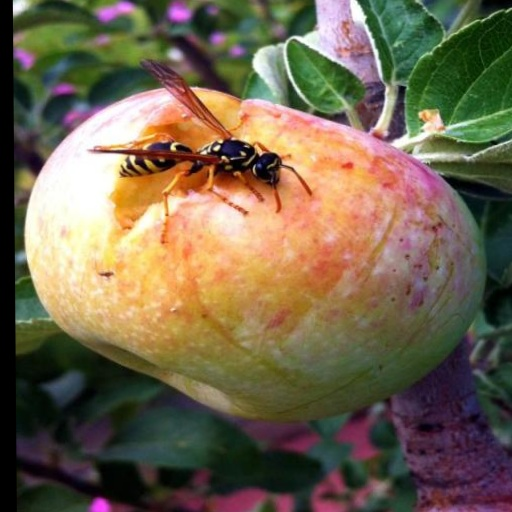fruit: (26, 91, 484, 420)
